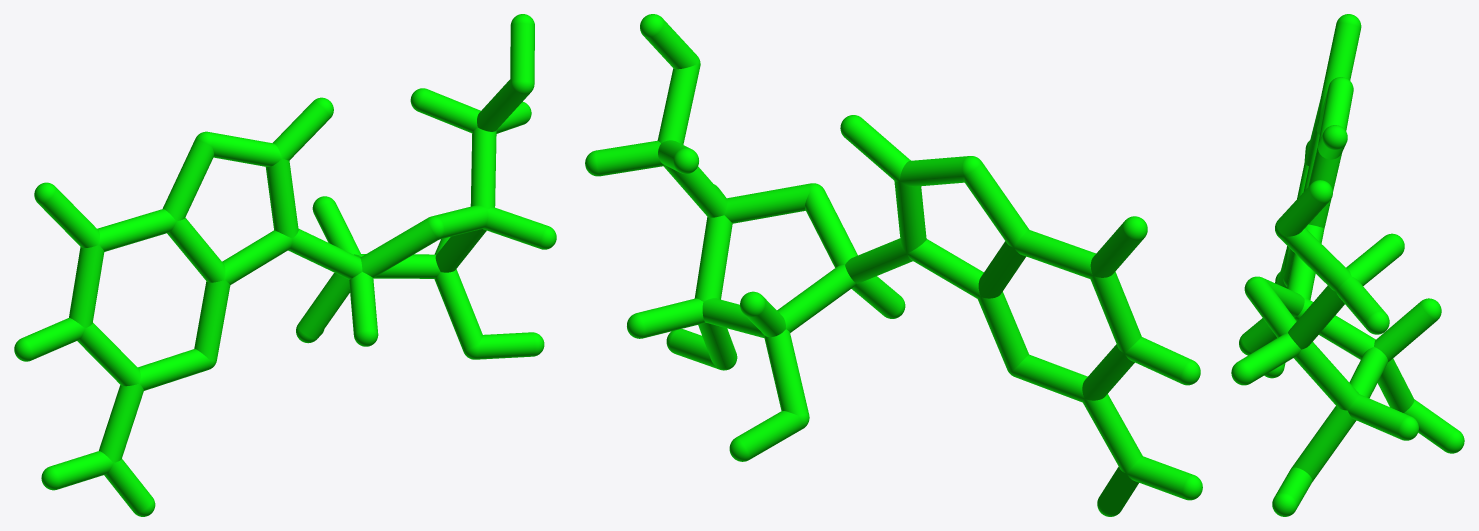
File: guanosine.glb
3 views of the same model, side by side, from view 1: azimuth 30°, elevation 25°; view 2: azimuth 150°, elevation 25°; view 3: azimuth 270°, elevation 25° (orthographic). The views are drawn at different scales.
Parts seen in each view (by area): view 1: bonds, atoms; view 2: bonds, atoms; view 3: bonds, atoms.
Part boxes in pixels (<box>): bonds: <box>23,23,547,513</box>; atoms: <box>14,14,556,516</box>; bonds: <box>595,19,1193,514</box>; atoms: <box>585,14,1202,516</box>; bonds: <box>1239,22,1457,508</box>; atoms: <box>1231,14,1464,516</box>.
Bounding box in the file's own units: 10.26 × 6.97 × 3.68.
